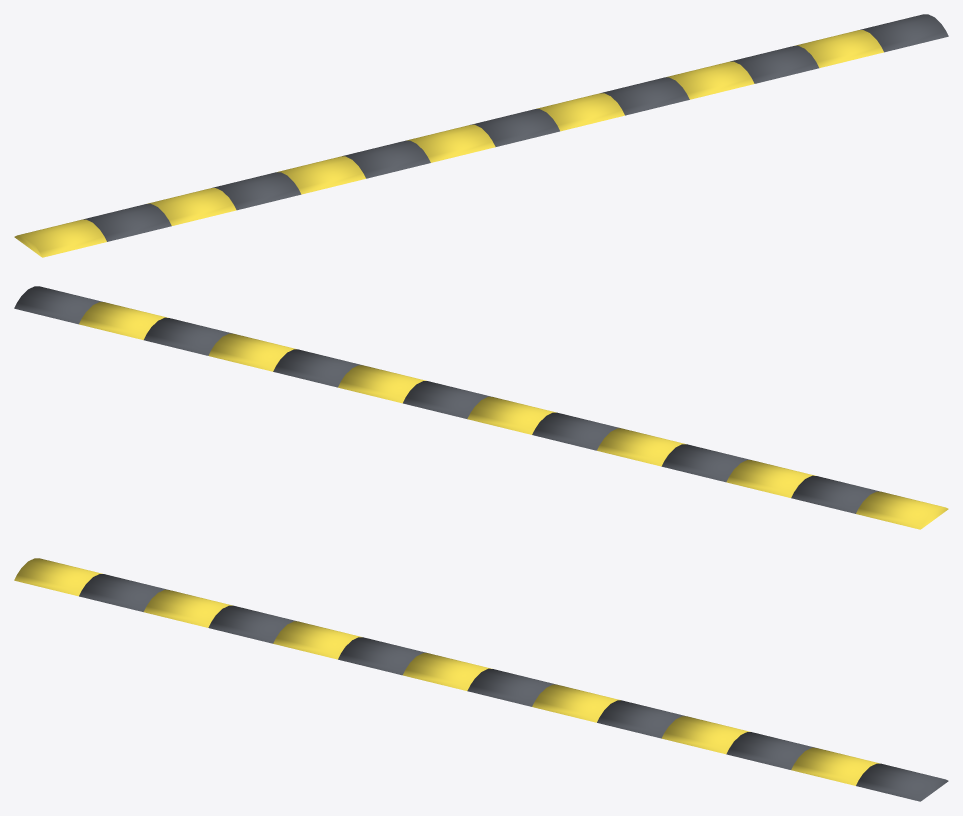
The model's file is speed_bump.glb.
3 renders of one model, top to bottom at view 1: azimuth 30°, elevation 25°; view 2: azimuth 150°, elevation 25°; view 3: azimuth 330°, elevation 25°, orthographic.
Parts seen in each view (by area): view 1: BumpSeg_0, BumpSeg_10, BumpSeg_3, BumpSeg_1, BumpSeg_6, BumpSeg_8, BumpSeg_9, BumpSeg_12, BumpSeg_5, BumpSeg_2, BumpSeg_4, BumpSeg_11 (+2 smaller); view 2: BumpSeg_0, BumpSeg_10, BumpSeg_3, BumpSeg_1, BumpSeg_6, BumpSeg_8, BumpSeg_9, BumpSeg_12, BumpSeg_5, BumpSeg_2, BumpSeg_4, BumpSeg_11 (+2 smaller); view 3: BumpSeg_13, BumpSeg_3, BumpSeg_10, BumpSeg_7, BumpSeg_12, BumpSeg_1, BumpSeg_4, BumpSeg_5, BumpSeg_8, BumpSeg_0, BumpSeg_2, BumpSeg_9 (+2 smaller).
Part boxes in pixels (box(x1,y1,x2,y2)): BumpSeg_0: box(14, 219, 106, 257); BumpSeg_10: box(666, 61, 754, 99); BumpSeg_3: box(212, 172, 301, 210); BumpSeg_1: box(83, 203, 171, 241); BumpSeg_6: box(406, 124, 495, 162); BumpSeg_8: box(536, 93, 624, 131); BumpSeg_9: box(600, 77, 689, 115); BumpSeg_12: box(794, 30, 883, 67); BumpSeg_5: box(342, 140, 430, 178); BumpSeg_2: box(147, 188, 236, 225); BumpSeg_4: box(277, 156, 365, 194); BumpSeg_11: box(730, 45, 818, 83); BumpSeg_0: box(856, 491, 948, 529); BumpSeg_10: box(208, 333, 296, 371); BumpSeg_3: box(661, 444, 750, 482); BumpSeg_1: box(791, 475, 879, 513); BumpSeg_6: box(467, 396, 556, 434); BumpSeg_8: box(338, 365, 426, 403); BumpSeg_9: box(273, 349, 362, 387); BumpSeg_12: box(79, 302, 168, 339); BumpSeg_5: box(532, 412, 620, 450); BumpSeg_2: box(726, 460, 815, 497); BumpSeg_4: box(597, 428, 685, 466); BumpSeg_11: box(144, 317, 232, 355); BumpSeg_13: box(856, 763, 948, 801); BumpSeg_3: box(208, 605, 296, 643); BumpSeg_10: box(661, 716, 750, 754); BumpSeg_7: box(467, 668, 556, 706); BumpSeg_12: box(791, 747, 879, 785); BumpSeg_1: box(79, 574, 168, 611); BumpSeg_4: box(273, 621, 362, 659); BumpSeg_5: box(338, 637, 426, 675); BumpSeg_8: box(532, 684, 620, 722); BumpSeg_0: box(14, 558, 102, 596); BumpSeg_2: box(144, 589, 232, 627); BumpSeg_9: box(597, 700, 685, 738).
Bounding box in the file's own units: 14 × 0.13 × 0.76.
